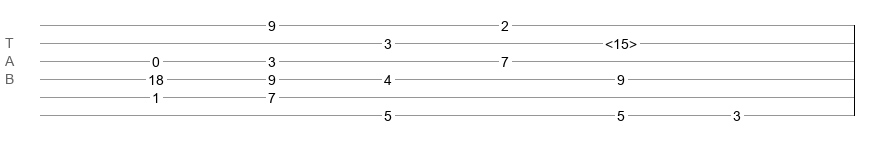0: (152, 54, 160, 64)
1: (152, 90, 160, 100)
18: (148, 72, 164, 82)
2: (501, 18, 509, 28)
3: (268, 54, 276, 64), (384, 36, 392, 46), (733, 108, 741, 118)
4: (384, 72, 392, 82)
5: (384, 108, 392, 118), (617, 108, 625, 118)
7: (268, 90, 276, 100), (501, 54, 509, 64)
9: (268, 18, 276, 28), (268, 72, 276, 82), (617, 72, 625, 82)
harmonic: (605, 36, 637, 46)
